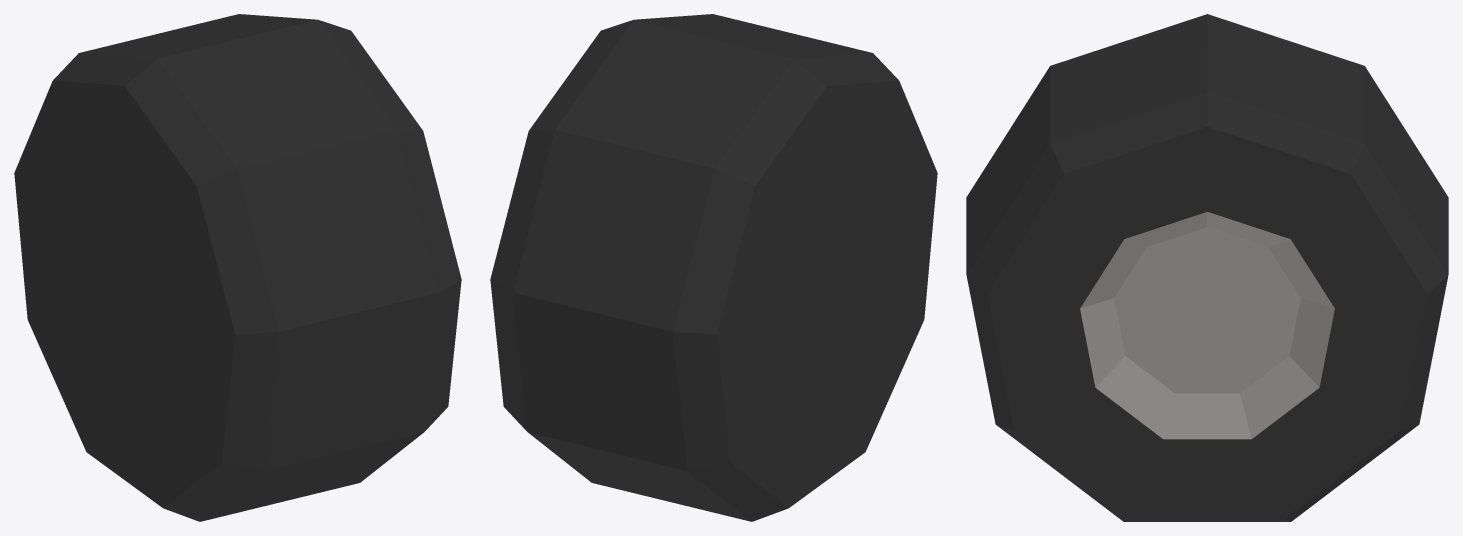
Rendered from car-formula-wheel_BL.glb.
The picture shows the model from 3 angles, left to right: view 1: azimuth 30°, elevation 25°; view 2: azimuth 150°, elevation 25°; view 3: azimuth 270°, elevation 25°; orthographic projection.
Parts seen in each view (by area): view 1: car-formula-wheel_BL; view 2: car-formula-wheel_BL; view 3: car-formula-wheel_BL.
Part boxes in pixels (x1,y1,x2,y2): car-formula-wheel_BL: [14, 14, 461, 521]; car-formula-wheel_BL: [490, 14, 937, 521]; car-formula-wheel_BL: [966, 14, 1448, 521].
Size of the model in its own units: 0.3708 by 0.6767 by 0.6871.
Materials: 1 (1 with a texture image).
